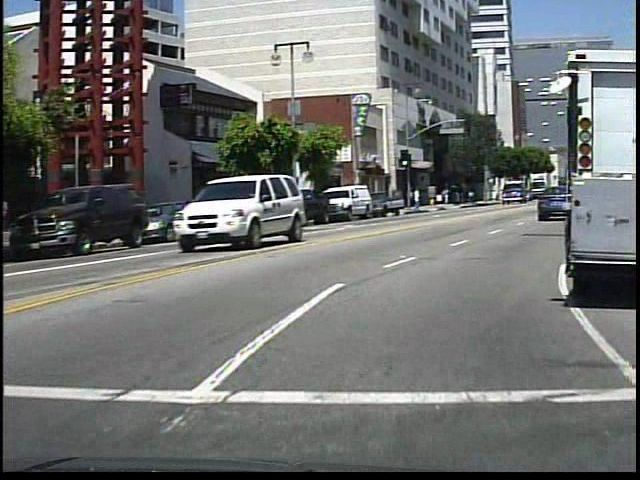person: (413, 186, 427, 214)
